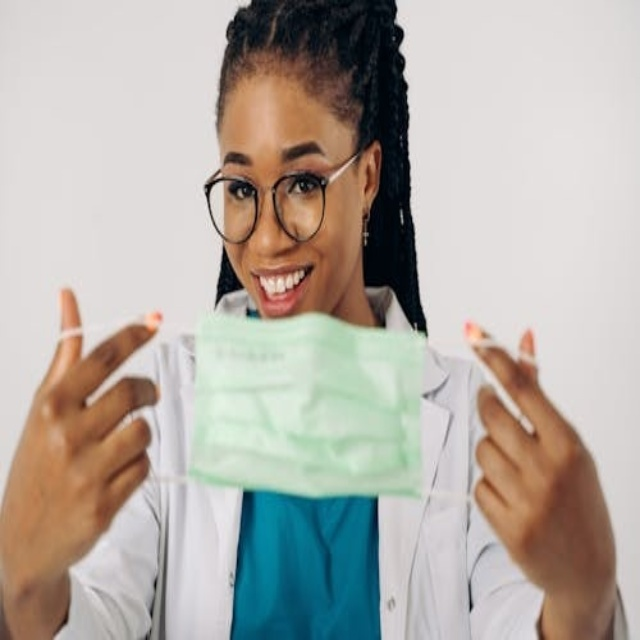Gafas: (205, 145, 365, 245)
Sin_guantes: (2, 287, 165, 602), (465, 322, 619, 611)
Sin_mascara: (251, 263, 314, 314)
